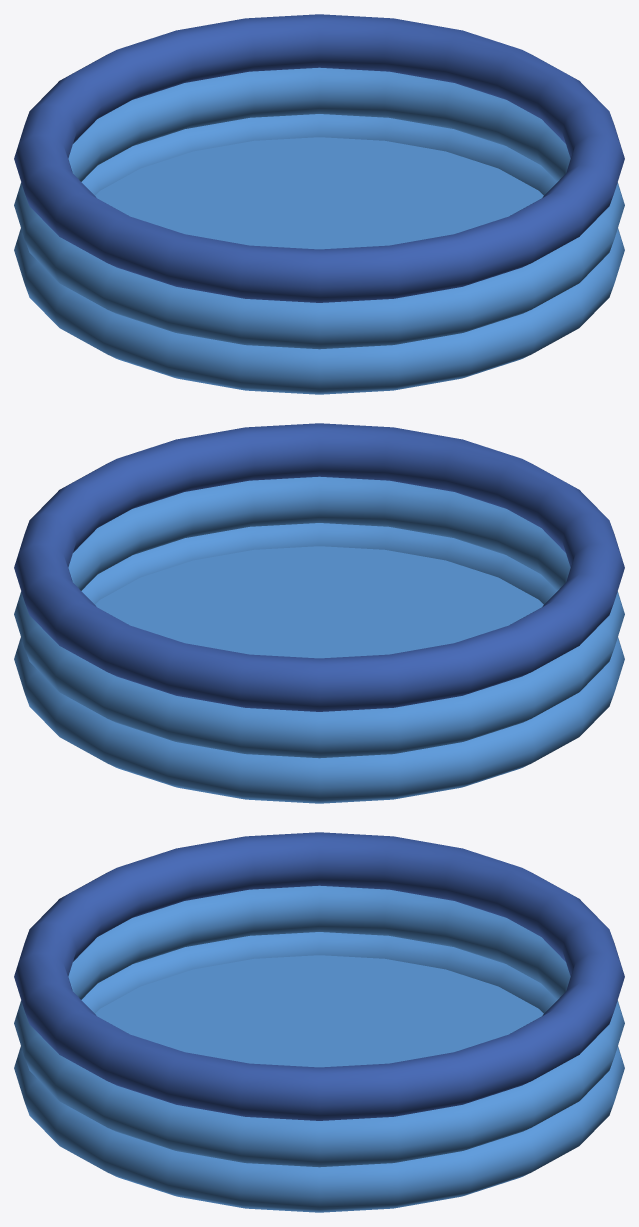
File: Pool_01.fbx
3 views of the same model, one above another, from view 1: azimuth 30°, elevation 25°; view 2: azimuth 150°, elevation 25°; view 3: azimuth 270°, elevation 25° (orthographic).
Parts seen in each view (by area): view 1: Pool_01; view 2: Pool_01; view 3: Pool_01.
Part boxes in pixels (x1=…): Pool_01: x1=14, y1=14, x2=624, y2=394; Pool_01: x1=14, y1=423, x2=624, y2=803; Pool_01: x1=14, y1=832, x2=624, y2=1212.
Size of the model in its own units: 1.55 by 0.3897 by 1.55.
